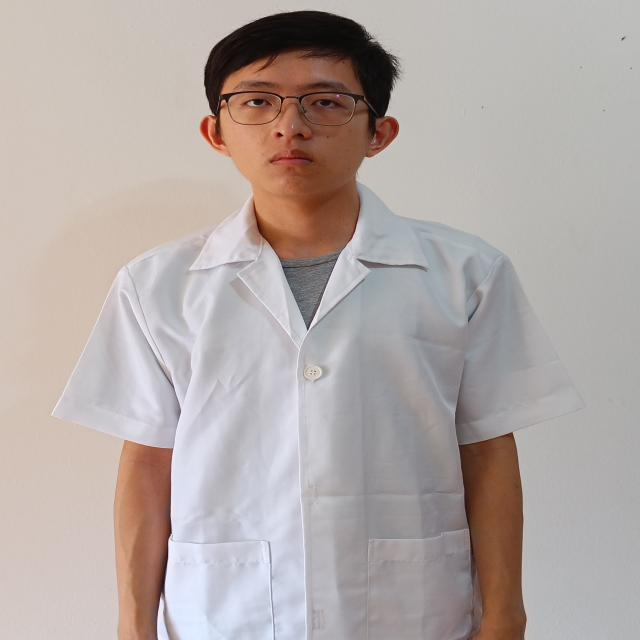person_with_labcoat: (54, 12, 583, 640)
